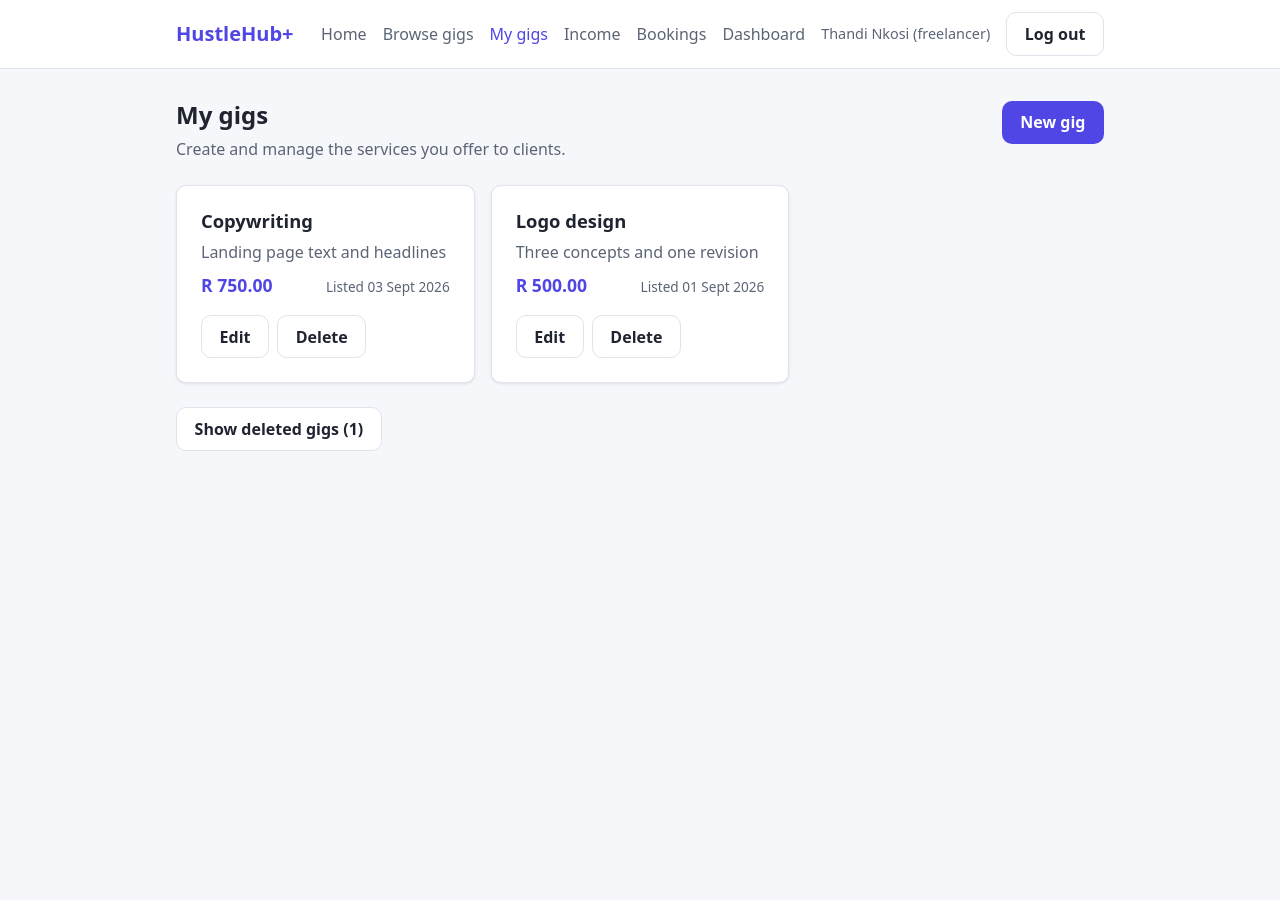
Test case: MyGigsPage › managing gigs › updates a gig in the list after it is edited
Click the button named "Edit Logo design": (550, 337) [516,315,584,358]
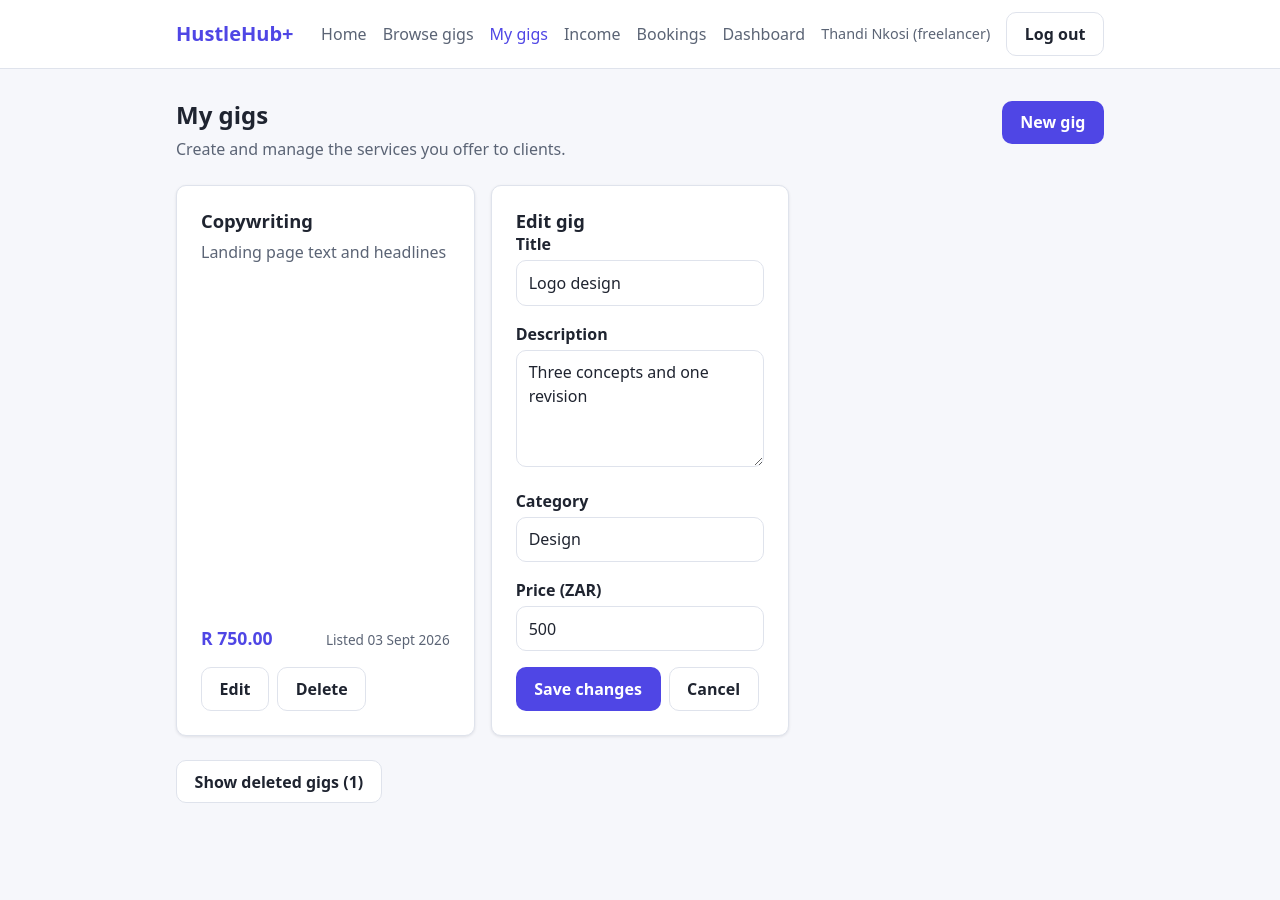
Replace the text in the number field labelled "Price (ZAR)" with "650": (640, 629) [516,606,764,651]
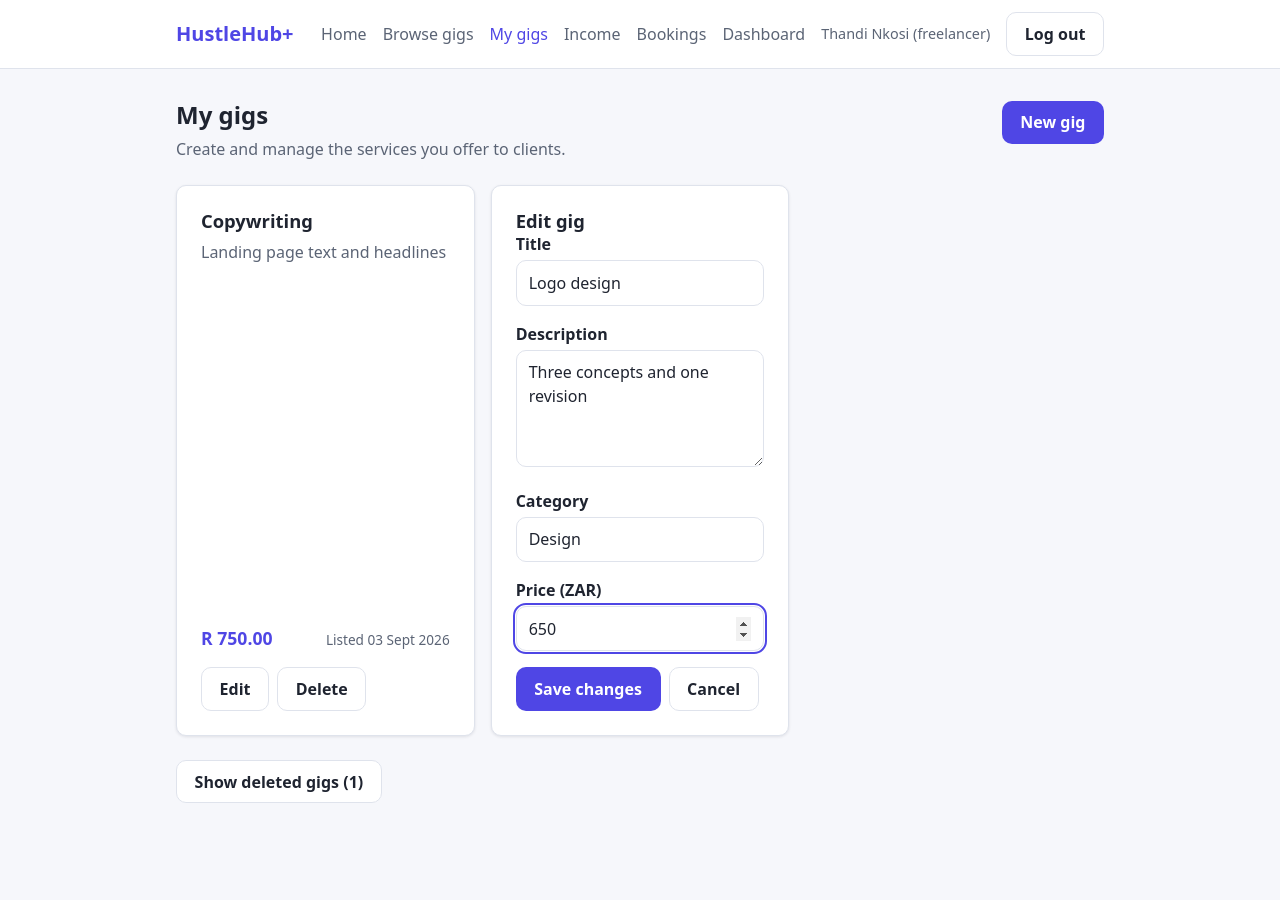
Click the button "Save changes": (588, 689) [516,667,660,711]
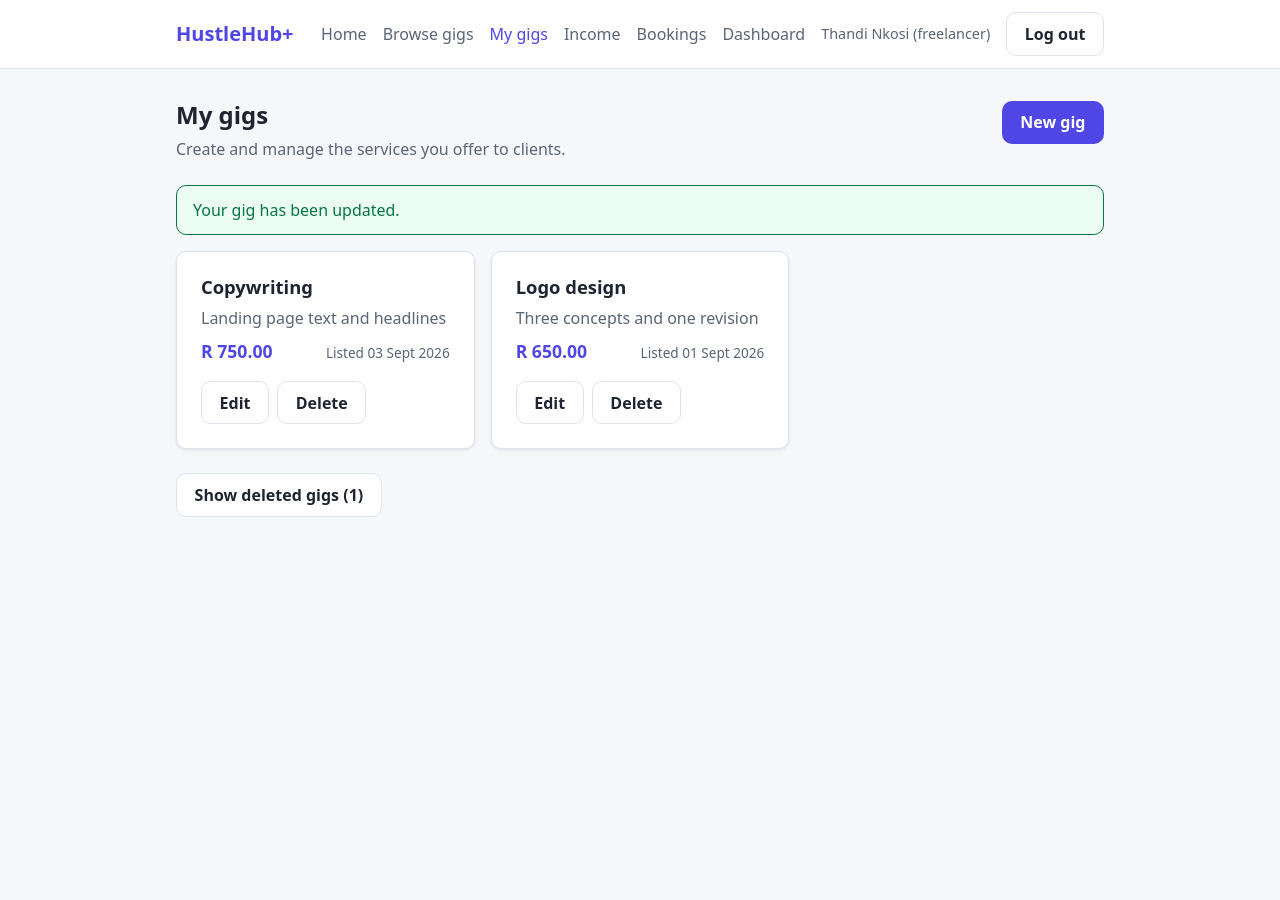
expect the text "R 650.00" is shown: met, box [516,340,587,364]
expect the message reads "Your gig has been updated.": met, box [193,199,400,221]
